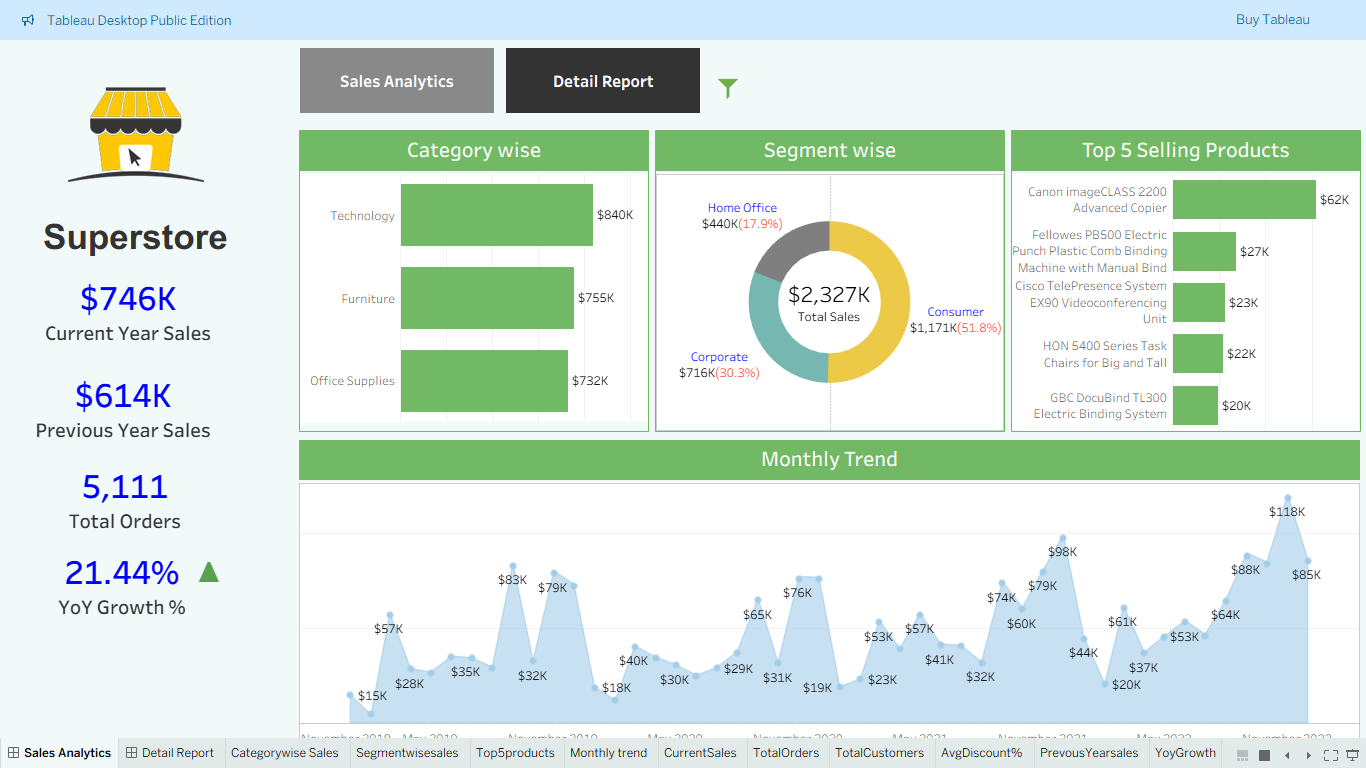

This screenshot's page, from the dashboard's own definition file:
{"tool":"tableau","page":{"name":"Sales Analytics","canvas":[1000,1000],"units":"permille","ordinal":1},"visuals":[{"type":"dashboard-object","box":[219.9,10.9,142,94.2]},{"type":"dashboard-object","box":[370.6,10.9,142,94.2]},{"type":"filter","title":"Categorywise Sales","param":"[federated.0kdh5m30j3o63u1c0fvgq1x6zy2k].[none:Category:nk]","box":[556.4,21.5,127.4,86]},{"type":"filter","title":"Categorywise Sales","param":"[federated.0kdh5m30j3o63u1c0fvgq1x6zy2k].[yr:Order Date:ok]","box":[683.8,21.5,127.4,86]},{"type":"filter","title":"Categorywise Sales","param":"[federated.0kdh5m30j3o63u1c0fvgq1x6zy2k].[none:Region:nk]","box":[811.1,21.5,126.6,86]},{"type":"dashboard-object","box":[522.9,48.9,20.8,43.5]},{"type":"image","param":"Image/Picture1.png","box":[50,63.4,99.2,159.4]},{"type":"worksheet","title":"Categorywise Sales","mark":"Automatic","rows":["Category"],"cols":["Sales"],"box":[219.1,128.6,256.3,433]},{"type":"worksheet","title":"Segmentwisesales","mark":"Pie","cols":["Calculation_164944382530592770","Calculation_164944382530592770"],"box":[479.7,128.6,256.3,433]},{"type":"worksheet","title":"Top5products","mark":"Automatic","rows":["Product Name"],"cols":["Sales"],"box":[740.3,128.6,256.3,433]},{"type":"title","box":[15.7,244.6,167.9,76.1]},{"type":"worksheet","title":"YoyGrowth (2)","mark":"Automatic","box":[134.2,748.2,38.1,59.8]}]}

Visuals, with their boxes on the dashboard's canvas, which has no fixed pixel size, in thousandths of its width and height (x1, y1, x2, y2). These are canvas units, not pixel positions in the 1366x768 screenshot, which may show the page scaled, cropped or inside an application window:
dashboard-object: locate(220, 11, 362, 105)
dashboard-object: locate(371, 11, 513, 105)
"Categorywise Sales" filter: locate(556, 22, 684, 108)
"Categorywise Sales" filter: locate(684, 22, 811, 108)
"Categorywise Sales" filter: locate(811, 22, 938, 108)
dashboard-object: locate(523, 49, 544, 92)
image: locate(50, 63, 149, 223)
"Categorywise Sales" worksheet: locate(219, 129, 475, 562)
"Segmentwisesales" worksheet (Pie marks): locate(480, 129, 736, 562)
"Top5products" worksheet: locate(740, 129, 997, 562)
title: locate(16, 245, 184, 321)
"YoyGrowth (2)" worksheet: locate(134, 748, 172, 808)
